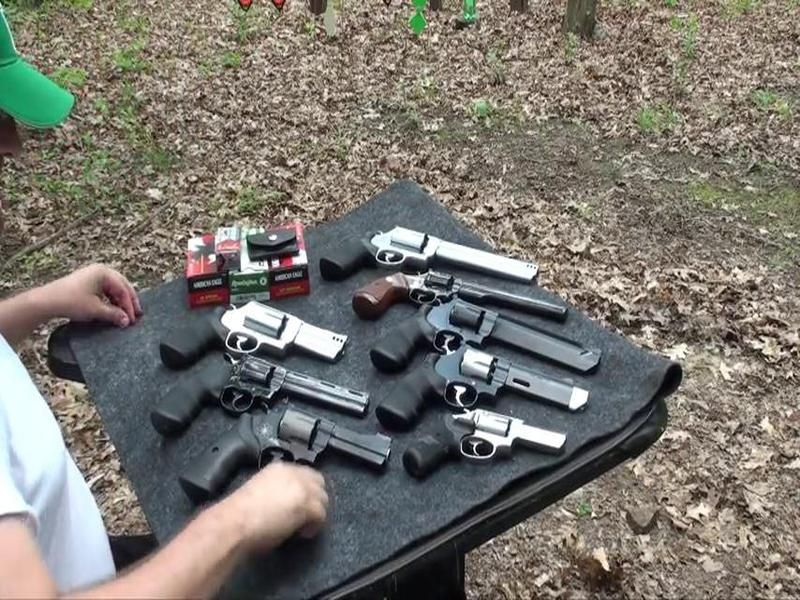Revolver: (177, 407, 397, 499), (154, 350, 368, 436), (157, 296, 349, 375)
